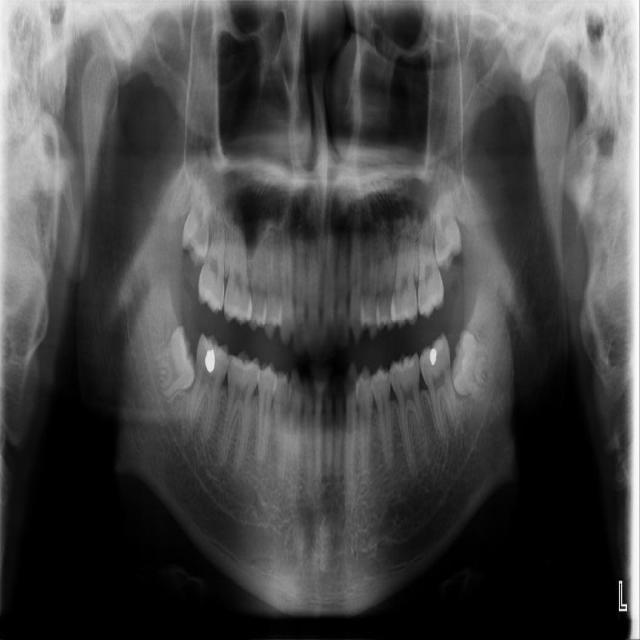3M ESPE Implant: (179, 172, 212, 269)
52: (189, 333, 234, 390), (416, 332, 454, 390)
73: (608, 574, 612, 584)
BioHorizons Implant: (417, 206, 444, 318)
BioLife Implant: (434, 177, 462, 271)
Biomet 3i Implant: (448, 329, 494, 398)
Blue Sky Bio Implant: (416, 331, 462, 446)
Caries: (197, 202, 228, 315)
Implant: (180, 331, 234, 449)
Keystone Dental Implant: (151, 324, 200, 400)
